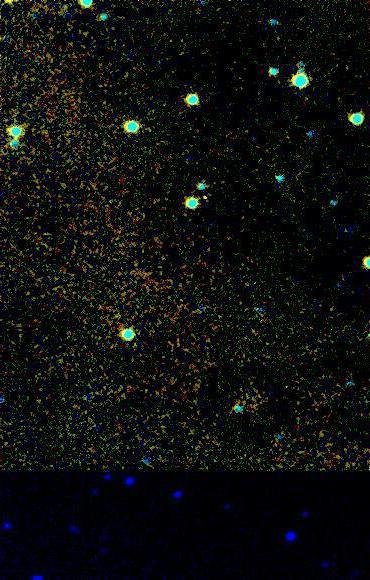star: (191, 183, 221, 213)
